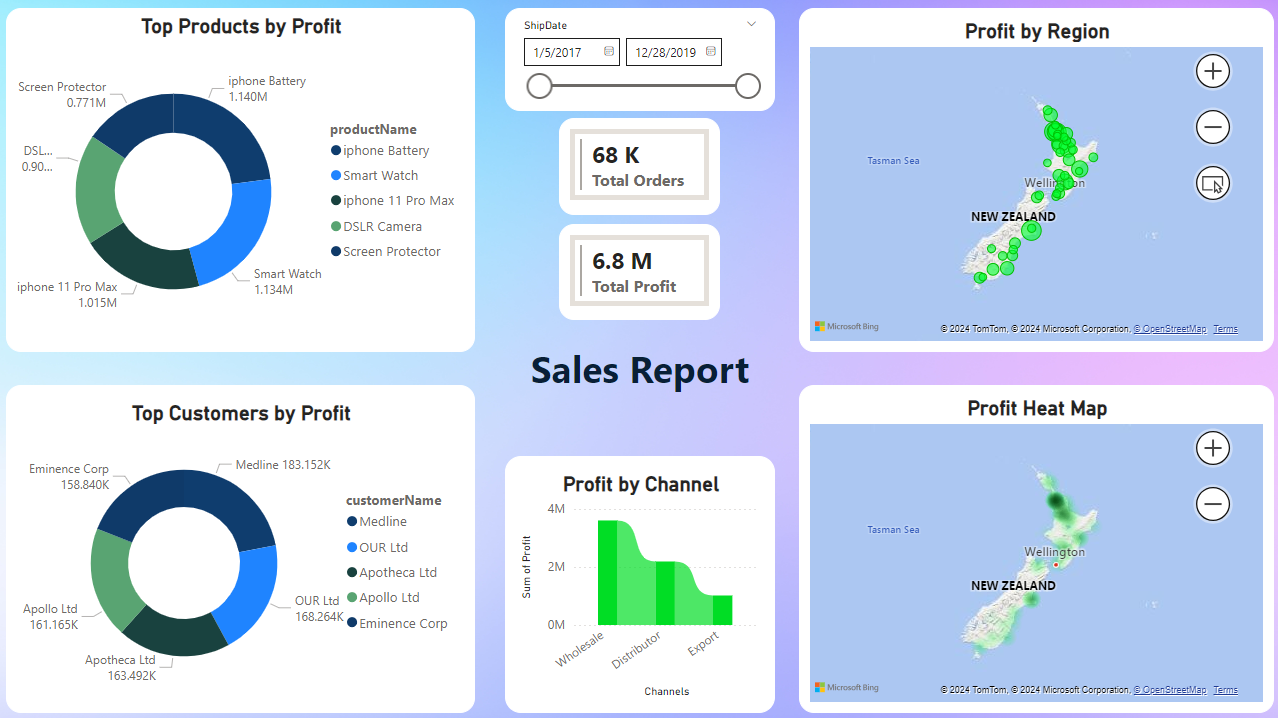

The page's visual inventory and layout, read from the dashboard file:
{"tool":"powerbi","page":{"name":"Page 1","canvas":[1280,720],"ordinal":0},"visuals":[{"type":"map","title":"Profit Heat Map","fields":{"Y":["Avg(samplesales orders1.Latitude)"],"X":["Avg(samplesales orders1.Longitude)"],"Category":["samplesales orders1.City"],"Size":["Sum(samplesales orders1.Profit)"]},"box":[799,385.1,474.9,327.7],"z":0},{"type":"donutChart","title":"Top Products by Profit","fields":{"Category":["samplesales products.productName"],"Y":["Sum(samplesales orders.Profit)"]},"box":[6.3,16.2,468.6,343.8],"z":1000},{"type":"ribbonChart","title":"Profit by Channel","fields":{"Category":["samplesales orders.Channels"],"Y":["Sum(samplesales orders.Profit)"]},"box":[505.4,456.1,269.3,256.8],"z":2000},{"type":"map","title":"Profit by Region","fields":{"Y":["Avg(samplesales orders1.Latitude)"],"X":["Avg(samplesales orders1.Longitude)"],"Category":["samplesales orders1.City"],"Size":["Sum(samplesales orders1.Profit)"]},"box":[799,8.1,474.9,343.8],"z":3000},{"type":"donutChart","title":"Top Customers by Profit","fields":{"Category":["samplesales customers.customerName"],"Y":["Sum(samplesales orders.Profit)"]},"box":[6.3,385.1,468.6,327.7],"z":4000},{"type":"multiRowCard","fields":{"Values":["Sum(samplesales orders.Profit)"]},"box":[566.5,228,142.7,87.1],"z":5000},{"type":"multiRowCard","title":"Total Orders","fields":{"Values":["Sum(samplesales orders.OrderQuantity)"]},"box":[567.4,123,142.7,83.5],"z":6000},{"type":"slicer","fields":{"Values":["samplesales orders.ShipDate"]},"box":[505.5,8.2,269.1,102.7],"z":7000},{"type":"textbox","box":[492.9,325.9,290.9,86.2],"z":8000}]}

Visuals, with their boxes in screenshot pixels (x1, y1, x2, y2), scaled from the page's 1280x720 canvas onto the 1278x718 screenshot:
"Profit Heat Map" map: x1=798 y1=384 x2=1272 y2=711
"Top Products by Profit" donutChart: x1=6 y1=16 x2=474 y2=359
"Profit by Channel" ribbonChart: x1=505 y1=455 x2=773 y2=711
"Profit by Region" map: x1=798 y1=8 x2=1272 y2=351
"Top Customers by Profit" donutChart: x1=6 y1=384 x2=474 y2=711
multiRowCard - Sum(samplesales orders.Profit): x1=566 y1=227 x2=708 y2=314
"Total Orders" multiRowCard: x1=567 y1=123 x2=709 y2=206
slicer - samplesales orders.ShipDate: x1=505 y1=8 x2=773 y2=111
textbox: x1=492 y1=325 x2=783 y2=411
